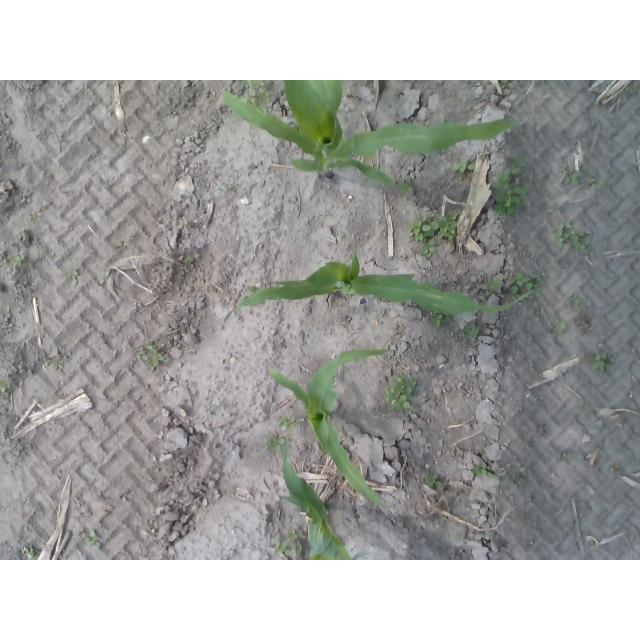Maize: (219, 81, 514, 190), (266, 348, 394, 510), (223, 252, 533, 316), (281, 446, 351, 560)
Weeds: (412, 217, 457, 244), (558, 221, 590, 253), (493, 185, 527, 214), (390, 374, 415, 409), (588, 350, 617, 373), (139, 344, 166, 366), (247, 81, 270, 104), (508, 272, 533, 293), (493, 171, 512, 190), (486, 277, 503, 297), (452, 162, 477, 175), (267, 437, 285, 452), (277, 540, 292, 558), (1, 384, 12, 406), (425, 474, 441, 489), (553, 318, 567, 335), (565, 170, 583, 183), (86, 534, 102, 548), (475, 461, 491, 475), (279, 416, 296, 429), (66, 270, 79, 286), (512, 158, 524, 175), (422, 239, 434, 255), (466, 323, 478, 338), (568, 297, 582, 309), (8, 255, 24, 265), (286, 530, 299, 541), (435, 315, 445, 329), (143, 528, 158, 536), (535, 275, 543, 290), (42, 353, 50, 367), (25, 547, 35, 558), (508, 473, 517, 484), (538, 425, 547, 436), (54, 360, 64, 369), (212, 405, 224, 411), (557, 453, 567, 460), (595, 181, 605, 187), (520, 474, 527, 482)
